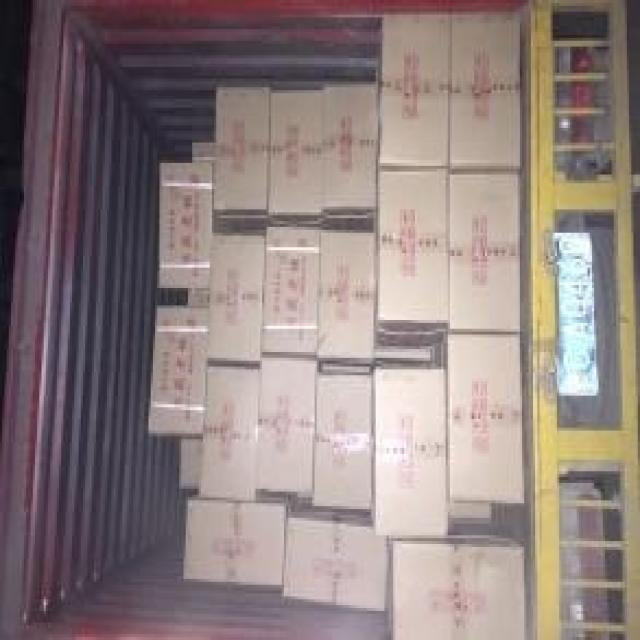box: (389, 521, 526, 640), (371, 367, 450, 541), (446, 335, 524, 506), (376, 169, 450, 346), (282, 495, 389, 611), (446, 169, 520, 335), (448, 12, 522, 172), (378, 15, 452, 169), (183, 492, 297, 588), (256, 352, 319, 497), (199, 364, 262, 503), (212, 87, 271, 233), (312, 369, 371, 512), (323, 84, 380, 230), (319, 227, 376, 372), (146, 305, 208, 436), (266, 90, 325, 227), (205, 233, 264, 367), (262, 224, 321, 355), (157, 163, 214, 288), (179, 436, 203, 489), (448, 497, 494, 524), (192, 143, 216, 163), (186, 288, 208, 308)
